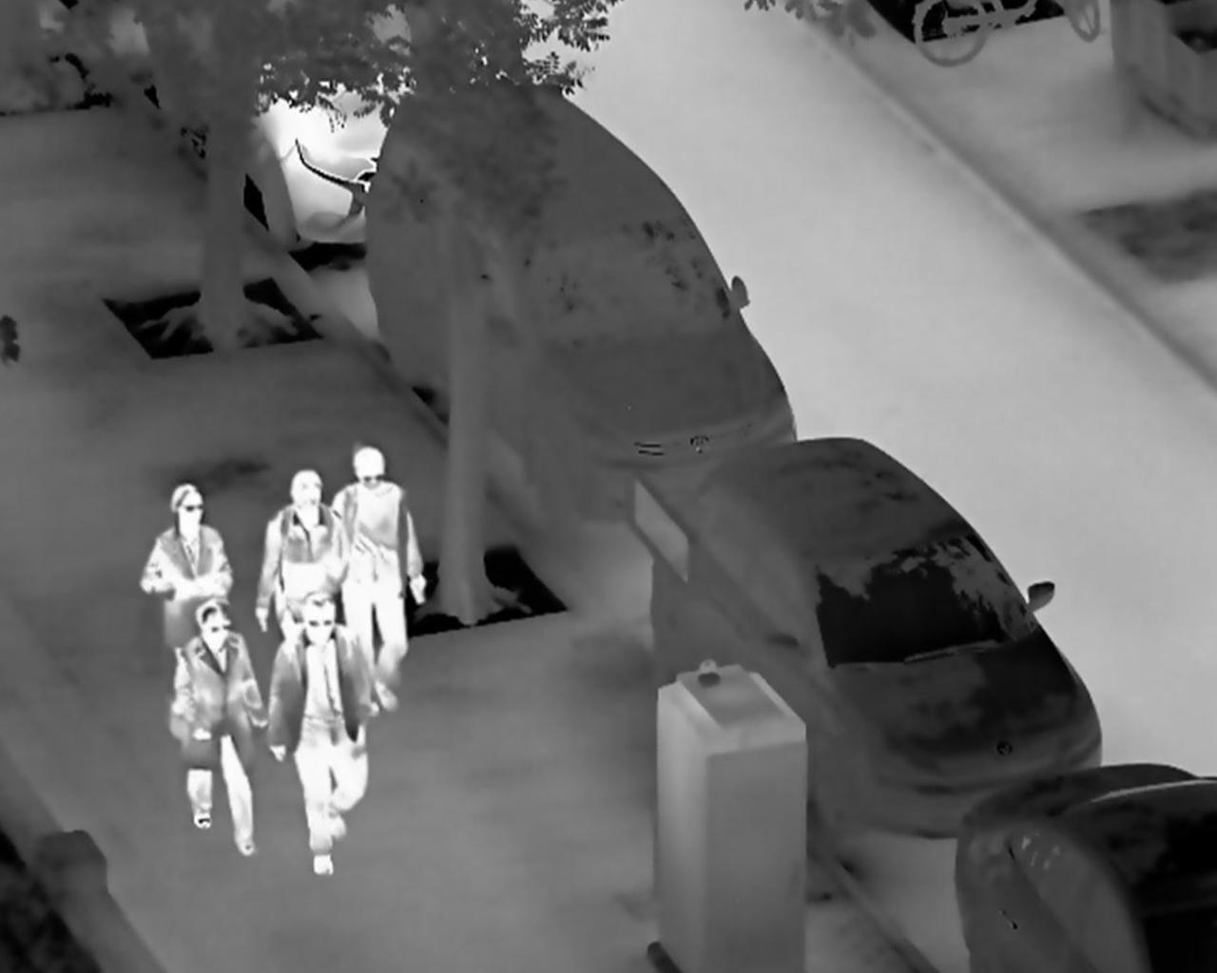person: (265, 588, 381, 876), (329, 441, 429, 716), (168, 600, 268, 857), (137, 479, 235, 673), (253, 466, 353, 645)
